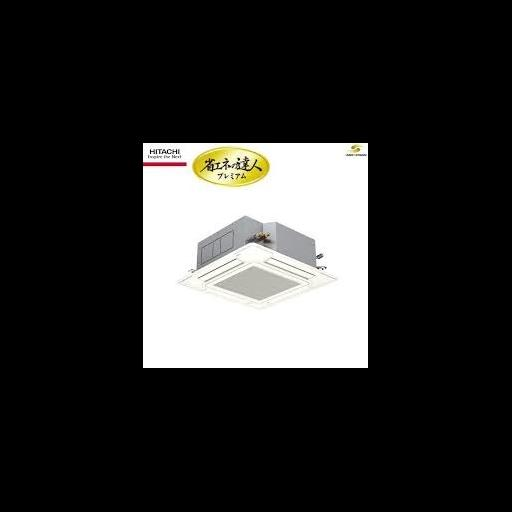4-way-ac: (177, 242, 338, 311)
